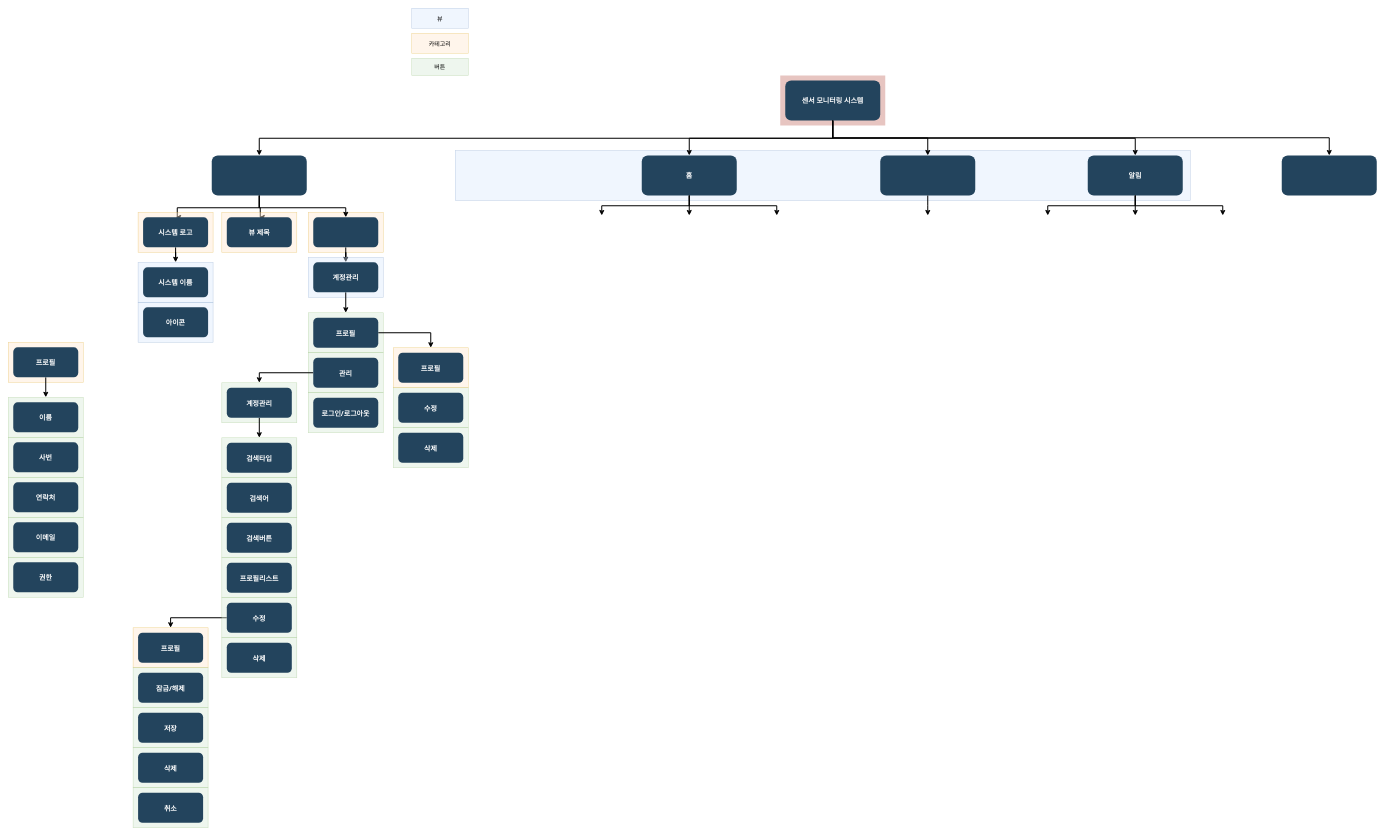
This 1385x836 diagram has some shape labels left out. The centre of each missing label's shape, as x and y in pixels:
계정: (345,232)
메뉴: (259,175)
센서: (1329,175)
승강장: (927,175)
